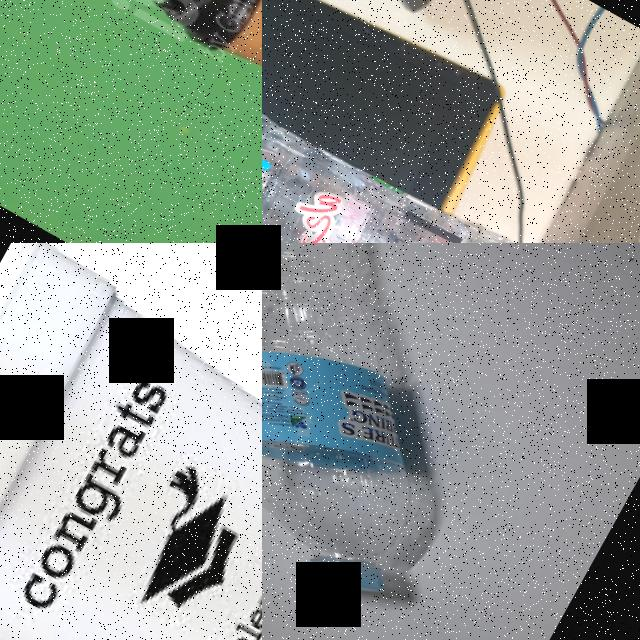bottle: (262, 243, 567, 628), (262, 3, 640, 243)
cup: (0, 243, 262, 640), (144, 0, 262, 138)
